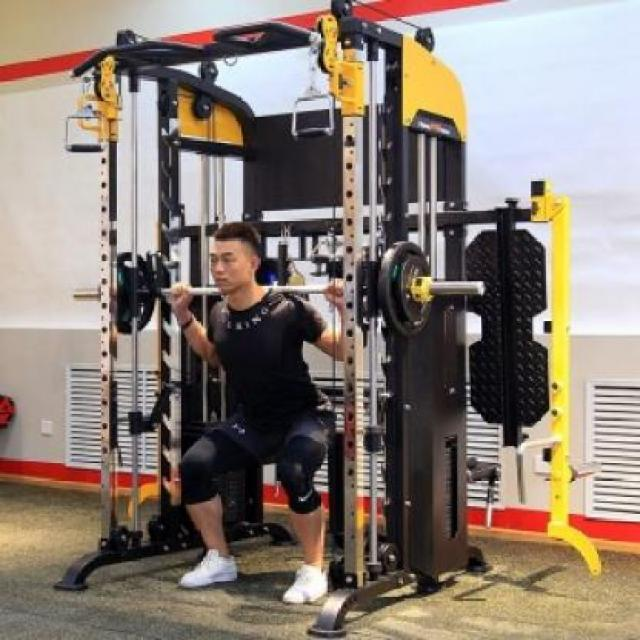smith machine: (67, 1, 496, 637)
